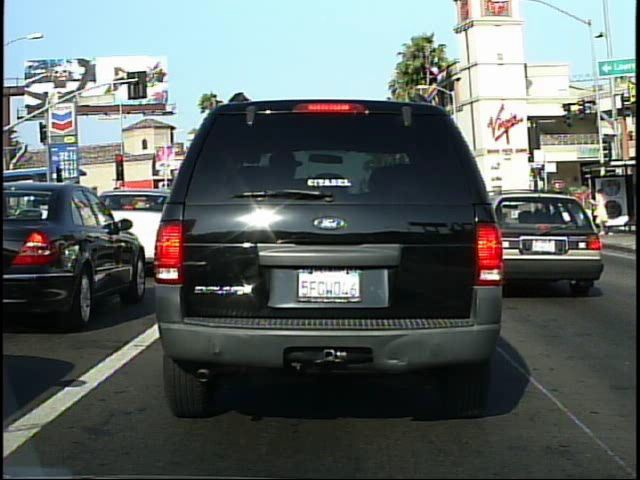person: (590, 185, 619, 241), (568, 183, 588, 239)
